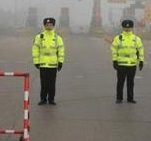person: (32, 17, 64, 106), (111, 18, 144, 103)
